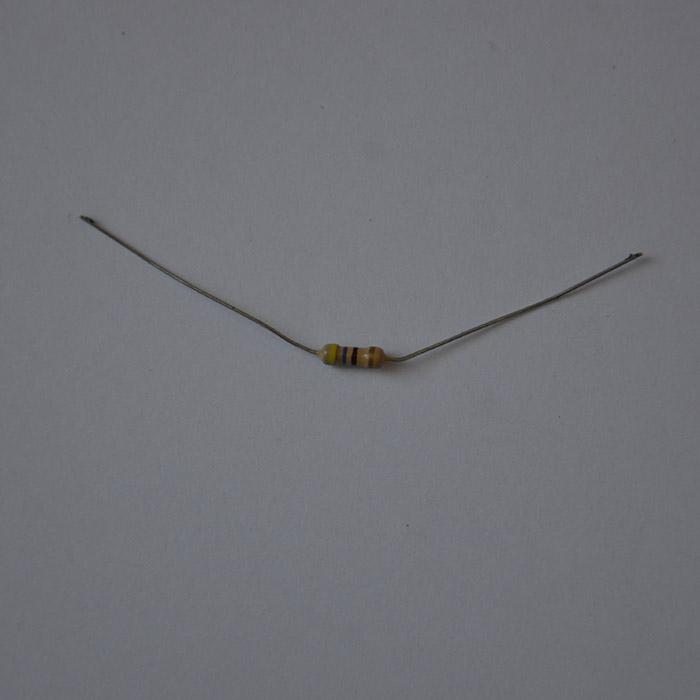resistor: (343, 311, 369, 381)
